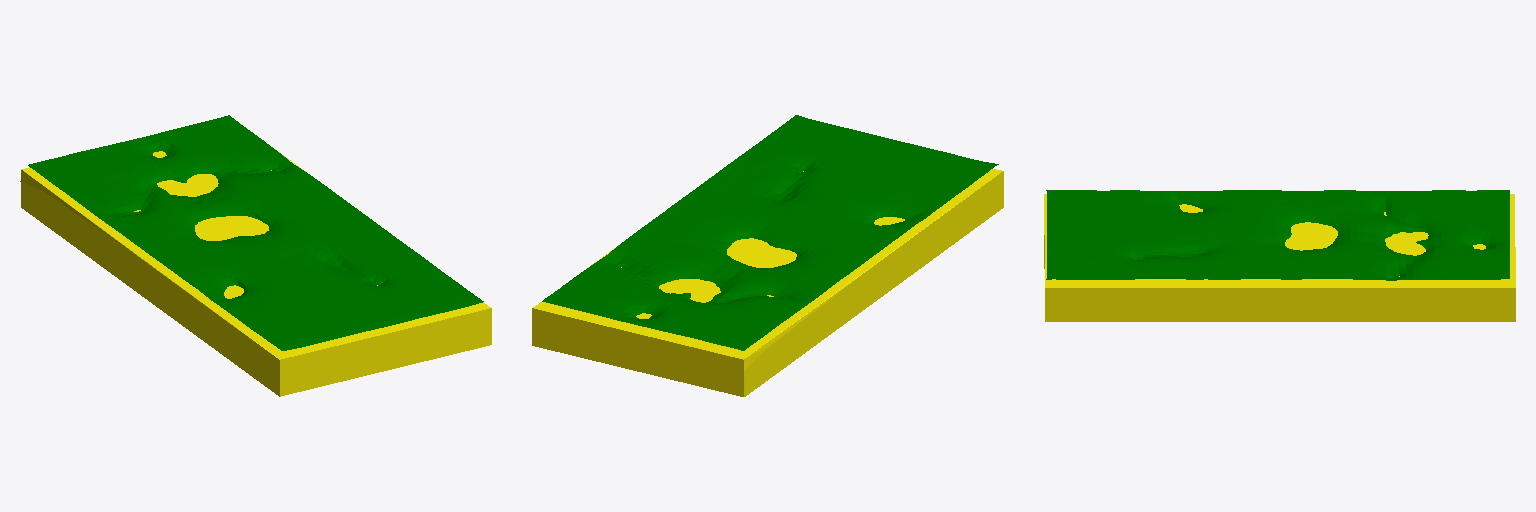
URDF robot description (bed):
<?xml version="1.0" ?>
<robot name="bed">

  <material name="off_yellow">
    <color rgba="1 0.95 0.051 1"/>
  </material>

  <material name="green">
    <color rgba="0.0 0.5 0.0 1"/>
  </material>

  <material name="brown">
    <color rgba="0.84 0.4 0.12 1"/>
  </material>

  <link name="mattress">
    <inertial>
      <mass value="0"/>
      <origin rpy="0 0 0" xyz="0 0 0"/>
      <inertia ixx="0.01" ixy="0.0" ixz="0.0" iyy="0.01" iyz="0.0" izz="0.01"/>
    </inertial>
    <visual>
      <origin rpy="0 0 0" xyz="0 0 0"/>
      <geometry>
        <mesh filename="bed_mattress_vhacd.obj" scale="1.0 1.0 1.0"/>
      </geometry>
      <material name="off_yellow"/>
    </visual>
    <collision>
      <origin rpy="0 0 0" xyz="0 0 0"/>
      <geometry>
        <!--mesh filename="bed_mattress_vhacd.obj" scale="1.1 1.1 1.1"/-->
        <mesh filename="bed_mattress_vhacd.obj" scale="1.0 1.0 1.0"/>
      </geometry>
    </collision>
  </link>
  <joint name="mattress_pmat_link" type="fixed">
    <parent link="mattress"/>
    <child link="pmat"/>
    <axis xyz="0 0 1"/>
    <origin rpy="0 0 0" xyz="0 0 0"/>
    <limit effort="2000" lower="0" upper="2" velocity="1"/>
  </joint>
  <link name="pmat">
    <inertial>
      <mass value="0"/>
      <origin rpy="0 0 0" xyz="0 0 0"/>
      <inertia ixx="0.01" ixy="0.0" ixz="0.0" iyy="0.01" iyz="0.0" izz="0.01"/>
    </inertial>
    <visual>
      <origin rpy="0 0 0" xyz="0 0 0"/>
      <geometry>
        <mesh filename="bed_pmat.obj" scale="1.0 1.0 1.0"/>
      </geometry>
      <material name="green"/>
    </visual>
  </link>
  <joint name="mattress_leg1_link" type="fixed">
    <parent link="mattress"/>
    <child link="leg1"/>
    <axis xyz="0 0 1"/>
    <origin rpy="0 0 0" xyz="0.031 0.036 -0.15"/>
    <limit effort="2000" lower="0" upper="2" velocity="1"/>
  </joint>
  <link name="leg1">
    <inertial>
      <mass value="0"/>
      <origin rpy="0 0 0" xyz="0 0 0"/>
      <inertia ixx="0.01" ixy="0.0" ixz="0.0" iyy="0.01" iyz="0.0" izz="0.01"/>
    </inertial>
    <visual>
      <origin rpy="0 0 0" xyz="0 0 0"/>
      <geometry>
        <mesh filename="cube.obj" scale="0.03 0.03 0.2"/>
      </geometry>
      <material name="brown"/>
    </visual>
  </link>
  <joint name="mattress_leg2_link" type="fixed">
    <parent link="mattress"/>
    <child link="leg2"/>
    <axis xyz="0 0 1"/>
    <origin rpy="0 0 0" xyz="0.031 1.7272 -0.15"/>
    <limit effort="2000" lower="0" upper="2" velocity="1"/>
  </joint>
  <link name="leg2">
    <inertial>
      <mass value="0"/>
      <origin rpy="0 0 0" xyz="0 0 0"/>
      <inertia ixx="0.01" ixy="0.0" ixz="0.0" iyy="0.01" iyz="0.0" izz="0.01"/>
    </inertial>
    <visual>
      <origin rpy="0 0 0" xyz="0 0 0"/>
      <geometry>
        <mesh filename="cube.obj" scale="0.03 0.03 0.2"/>
      </geometry>
      <material name="brown"/>
    </visual>
  </link>
  <joint name="mattress_leg3_link" type="fixed">
    <parent link="mattress"/>
    <child link="leg3"/>
    <axis xyz="0 0 1"/>
    <origin rpy="0 0 0" xyz="0.8382 0.036 -0.15"/>
    <limit effort="2000" lower="0" upper="2" velocity="1"/>
  </joint>
  <link name="leg3">
    <inertial>
      <mass value="0"/>
      <origin rpy="0 0 0" xyz="0 0 0"/>
      <inertia ixx="0.01" ixy="0.0" ixz="0.0" iyy="0.01" iyz="0.0" izz="0.01"/>
    </inertial>
    <visual>
      <origin rpy="0 0 0" xyz="0 0 0"/>
      <geometry>
        <mesh filename="cube.obj" scale="0.03 0.03 0.2"/>
      </geometry>
      <material name="brown"/>
    </visual>
  </link>
  <joint name="mattress_leg4_link" type="fixed">
    <parent link="mattress"/>
    <child link="leg4"/>
    <axis xyz="0 0 1"/>
    <origin rpy="0 0 0" xyz="0.8382 1.7272 -0.15"/>
    <limit effort="2000" lower="0" upper="2" velocity="1"/>
  </joint>
  <link name="leg4">
    <inertial>
      <mass value="0"/>
      <origin rpy="0 0 0" xyz="0 0 0"/>
      <inertia ixx="0.01" ixy="0.0" ixz="0.0" iyy="0.01" iyz="0.0" izz="0.01"/>
    </inertial>
    <visual>
      <origin rpy="0 0 0" xyz="0 0 0"/>
      <geometry>
        <mesh filename="cube.obj" scale="0.03 0.03 0.2"/>
      </geometry>
      <material name="brown"/>
    </visual>
  </link>
</robot>

--- Facts derived from the render (not from the file) ---
3 views of the same robot in one strip: view 1: azimuth 30°, elevation 25°; view 2: azimuth 150°, elevation 25°; view 3: azimuth 270°, elevation 25° (orthographic).
Robot: bed — 6 links, 5 joints (5 fixed); root link mattress; default pose: every joint at zero.
Visible links, largest first — view 1: pmat, mattress; view 2: pmat, mattress; view 3: pmat, mattress.
Boxes of the visible links, x1,y1,x2,y2 form: pmat: [28, 115, 483, 350]; mattress: [20, 124, 491, 396]; pmat: [542, 115, 998, 350]; mattress: [532, 169, 1003, 396]; pmat: [1046, 190, 1509, 280]; mattress: [1044, 194, 1515, 321].
Bounding box of the posed robot: 0.9324 × 1.97 × 0.1909 m (x, y, z).
Meshes: 3 distinct files referenced, 2 mesh visuals loaded (2 OBJ); not drawn: 4 (reference not matched to a file when rendering).